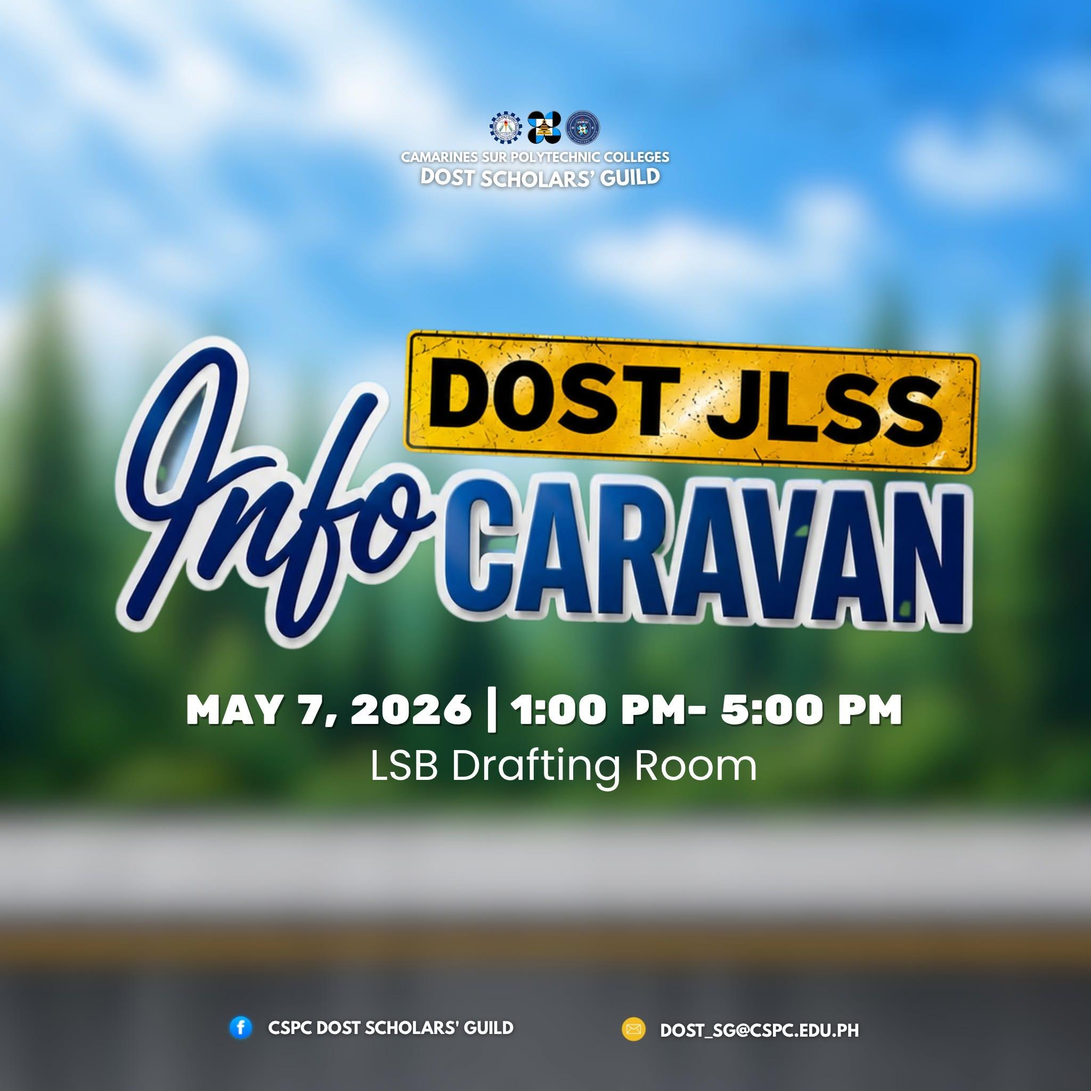embellishment: (229, 1016, 254, 1040), (621, 1017, 646, 1041)
logo: (526, 110, 564, 146), (487, 109, 523, 145), (564, 110, 600, 146)
text: (112, 343, 431, 646), (434, 470, 979, 635), (423, 351, 945, 453), (182, 692, 902, 727), (366, 744, 763, 790), (413, 164, 664, 191), (266, 1015, 516, 1037), (396, 149, 672, 168), (657, 1018, 860, 1040)
underlay: (402, 331, 982, 476)
